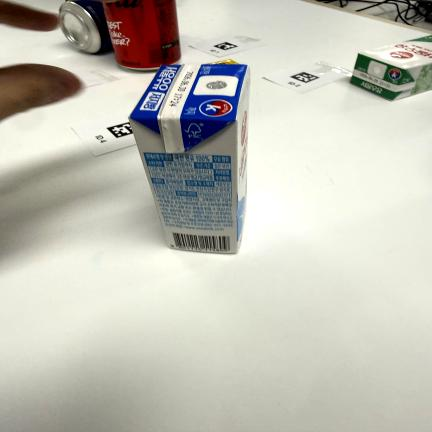milk_blue: (130, 64, 250, 254)
milk_green: (350, 35, 432, 100)
